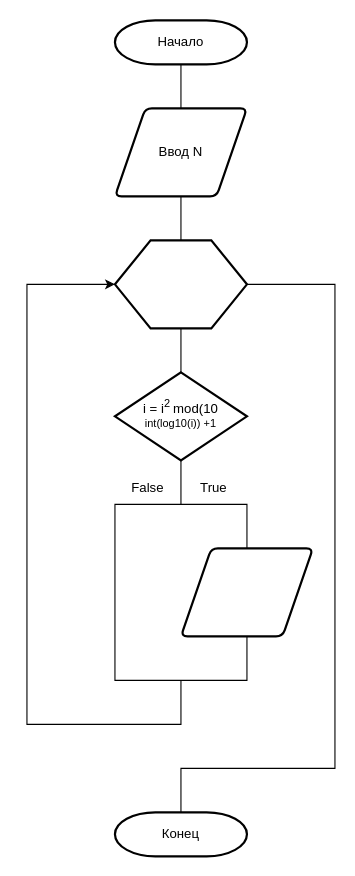
Some shapes in this 355 by 876 pixel diagram are drawn without their labels. The box of each missing label's shape, as (x1, y1, x2, y2) in pixels:
i = 1; i < N; i++: (113, 239, 248, 329)
Вывод i: (179, 547, 314, 637)
